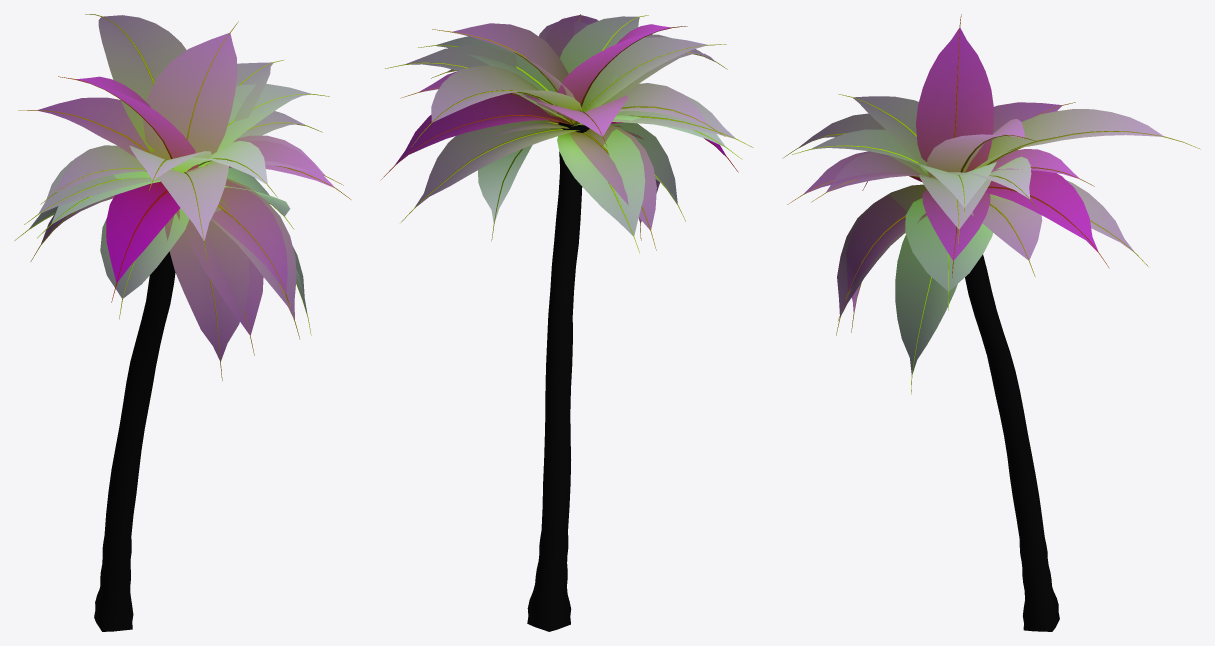
Rendered from tree_palm_b.glb.
3 views of the same model, side by side, from view 1: azimuth 30°, elevation 25°; view 2: azimuth 150°, elevation 25°; view 3: azimuth 270°, elevation 25° (orthographic). The views are drawn at different scales.
Parts seen in each view (by area): view 1: tree_palm_b; view 2: tree_palm_b; view 3: tree_palm_b.
Part boxes in pixels (x1,y1,x2,y2): tree_palm_b: (14, 14, 351, 631); tree_palm_b: (380, 14, 753, 631); tree_palm_b: (782, 14, 1200, 631).
Bounding box in the file's own units: 7.15 × 12.71 × 8.49.
